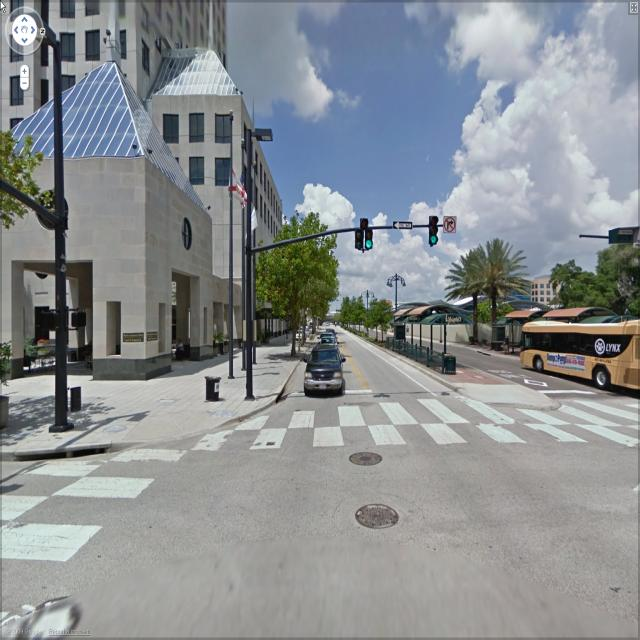b_2: (1, 1, 301, 365), (518, 267, 582, 332)
